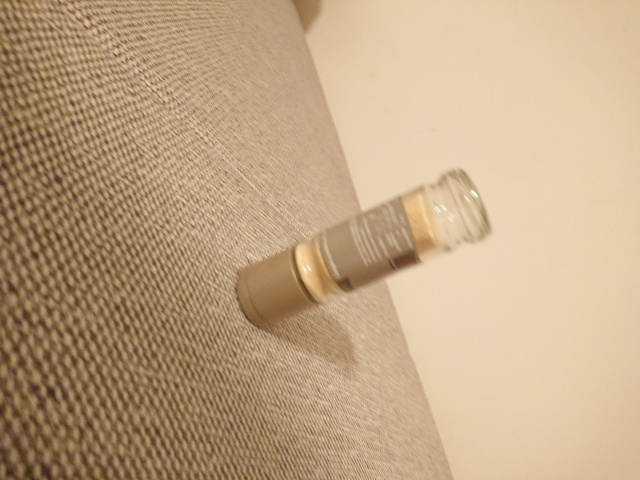Kotanyi Garlic Granules 70g: (234, 165, 494, 333)
